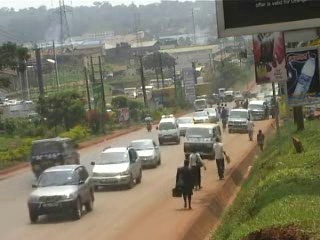Car: (27, 161, 98, 226), (88, 142, 143, 192), (124, 136, 163, 168), (174, 114, 193, 138), (192, 109, 210, 127), (201, 107, 220, 121)
Motorcycle: (142, 113, 155, 132), (219, 106, 227, 129)
